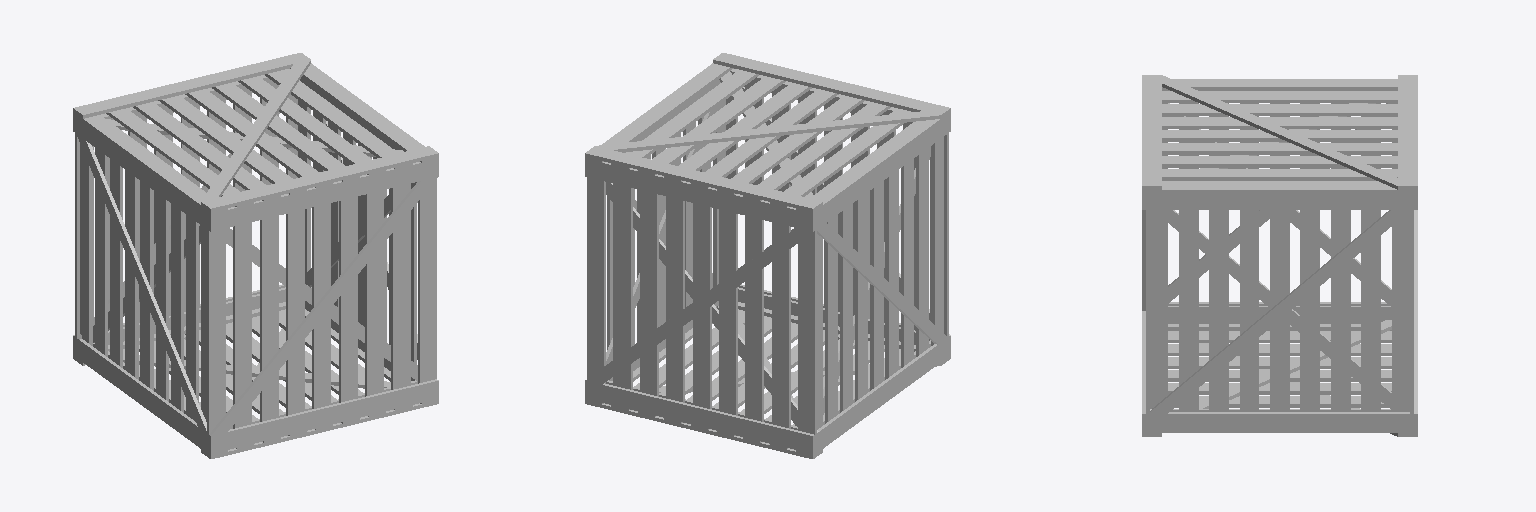
Rendered from Crate.obj.
3 views of the same model, side by side, from view 1: azimuth 30°, elevation 25°; view 2: azimuth 150°, elevation 25°; view 3: azimuth 270°, elevation 25° (orthographic).
Visible parts, largest first — view 1: Mesh; view 2: Mesh; view 3: Mesh.
Part boxes in pixels (left/top/right/bottom): Mesh: left=73, top=53, right=438, bottom=458; Mesh: left=585, top=53, right=950, bottom=458; Mesh: left=1142, top=75, right=1417, bottom=436.
Bounding box in the file's own units: 10.79 × 11.33 × 11.29.